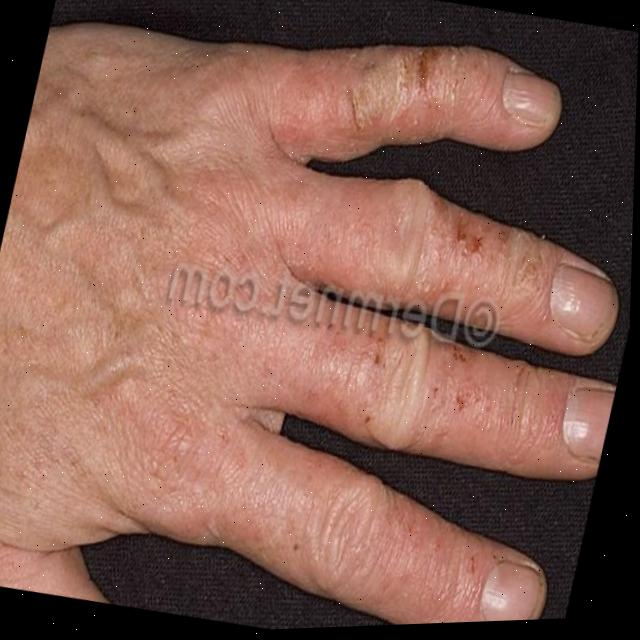Eczema: (247, 28, 593, 598)
